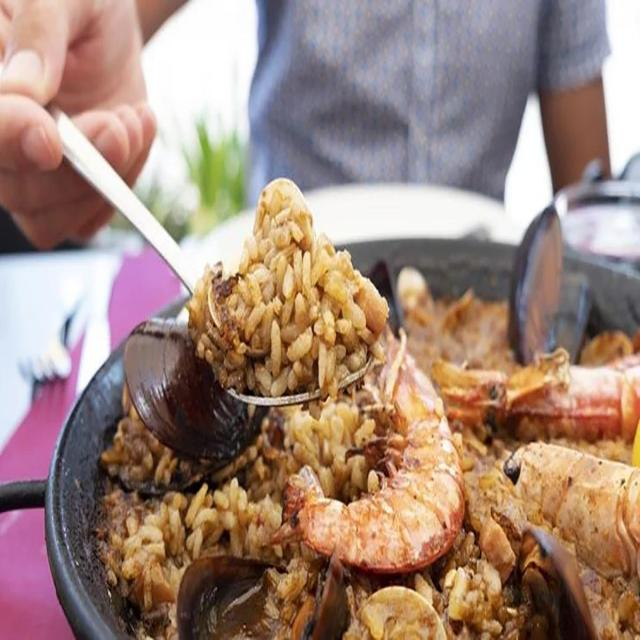arroz: (205, 170, 381, 393)
